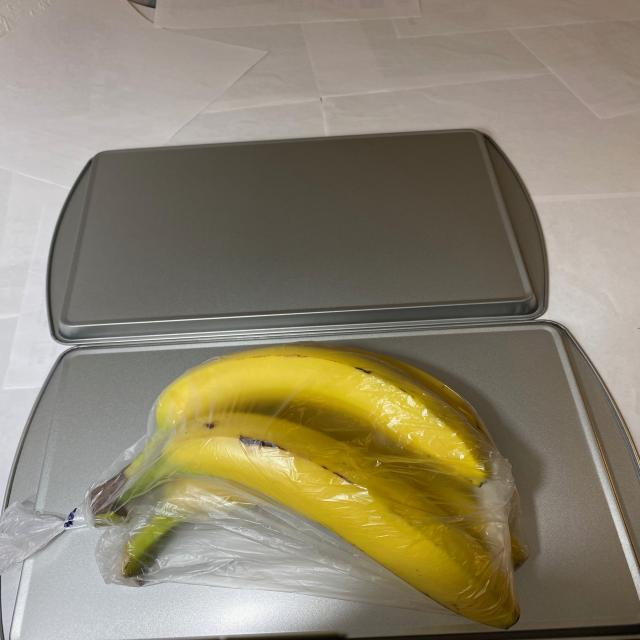banana: (68, 341, 542, 632)
